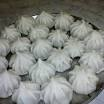modak: (38, 75, 76, 103), (71, 64, 98, 96), (9, 81, 38, 104), (1, 63, 20, 96), (10, 48, 34, 73), (48, 47, 70, 73), (70, 18, 91, 39), (82, 29, 104, 49), (15, 14, 37, 33), (54, 12, 74, 30), (36, 10, 55, 28)
